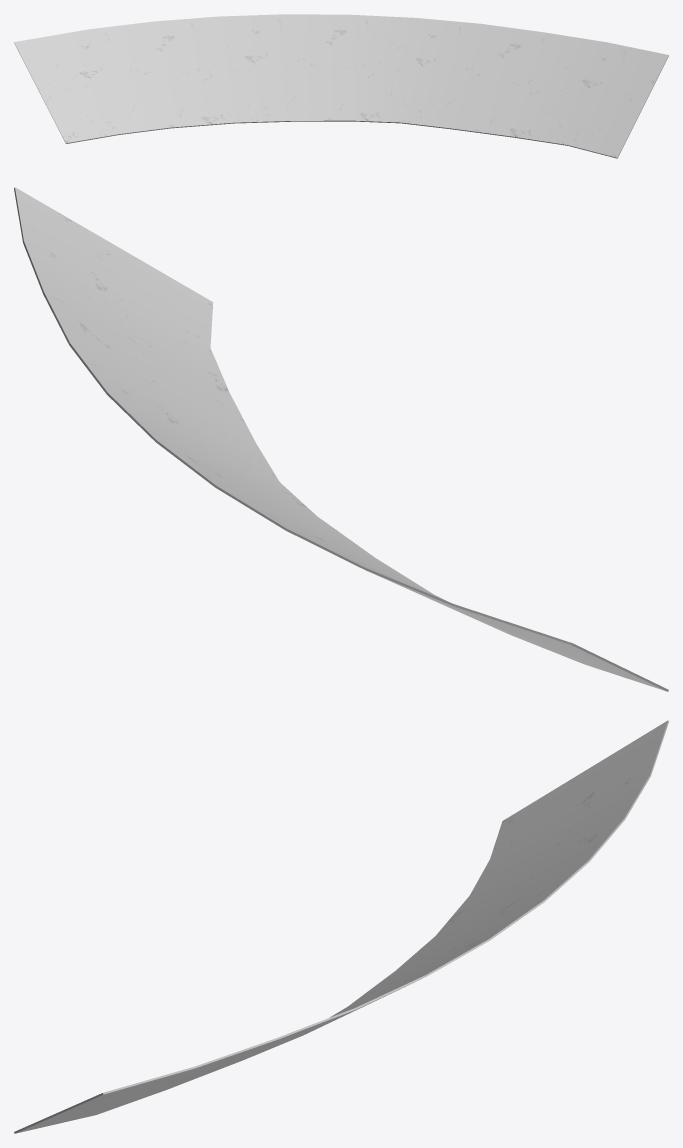
Rendered from LabRoof_1.fbx.
The picture shows the model from 3 angles, top to bottom: view 1: azimuth 30°, elevation 25°; view 2: azimuth 150°, elevation 25°; view 3: azimuth 270°, elevation 25°; orthographic projection. The views are drawn at different scales.
Parts seen in each view (by area): view 1: Lab_1; view 2: Lab_1; view 3: Lab_1.
Part boxes in pixels (x1,y1,x2,y2): Lab_1: (14,14,668,158); Lab_1: (14,187,668,691); Lab_1: (14,720,668,1133).
Size of the model in its own units: 48.8 by 6.26 by 36.23.
